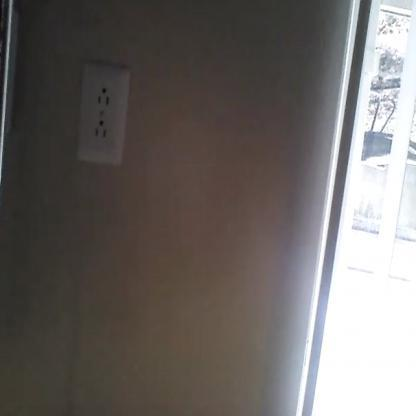OUTLET: (77, 67, 129, 165)
